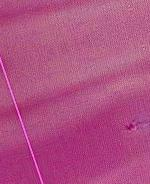knot: (122, 117, 145, 137)
